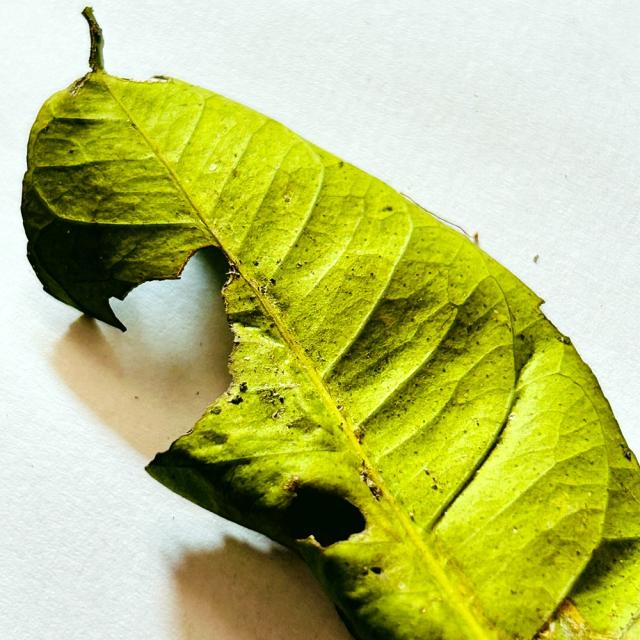Deficiency Leaf: (52, 248, 233, 461)
Lemon: (22, 8, 639, 639)
